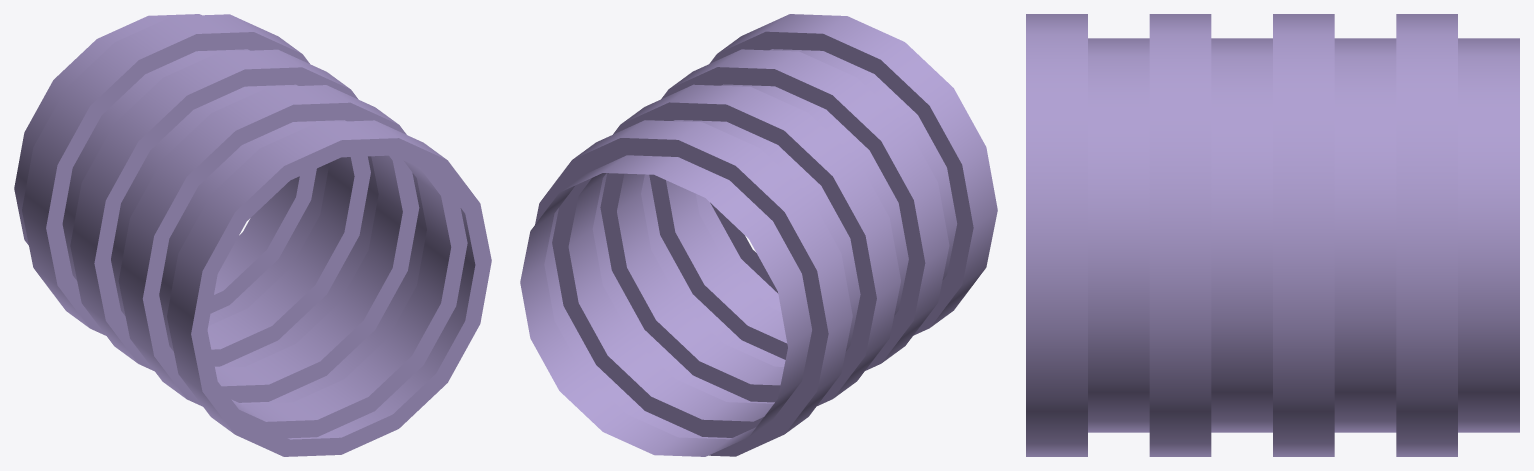
Rendered from tile_pipe_large_straight.fbx.
The picture shows the model from 3 angles, left to right: view 1: azimuth 30°, elevation 25°; view 2: azimuth 150°, elevation 25°; view 3: azimuth 270°, elevation 25°; orthographic projection. The views are drawn at different scales.
Parts seen in each view (by area): view 1: pCylinder1; view 2: pCylinder1; view 3: pCylinder1.
Boxes of the visible parts, box(x1,y1,x2,y2) form: pCylinder1: box(14, 14, 491, 456); pCylinder1: box(520, 14, 997, 456); pCylinder1: box(1026, 14, 1519, 456).
Size of the model in its own units: 8.98 by 8.98 by 10.
